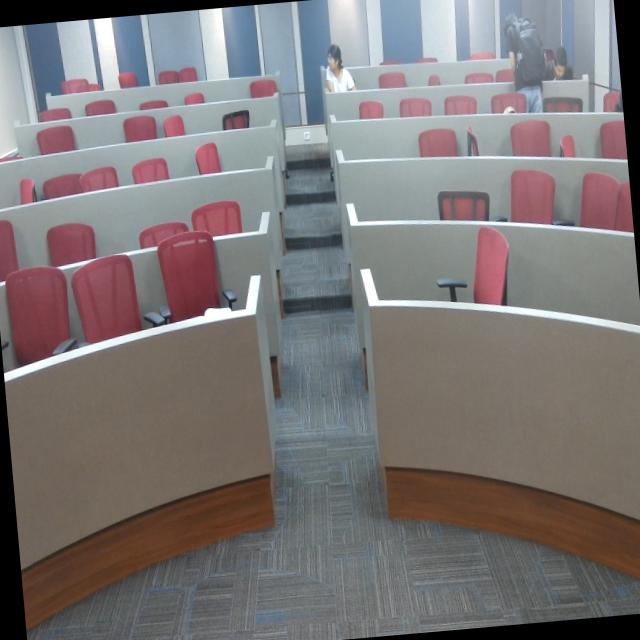cheating: (318, 33, 356, 105)
